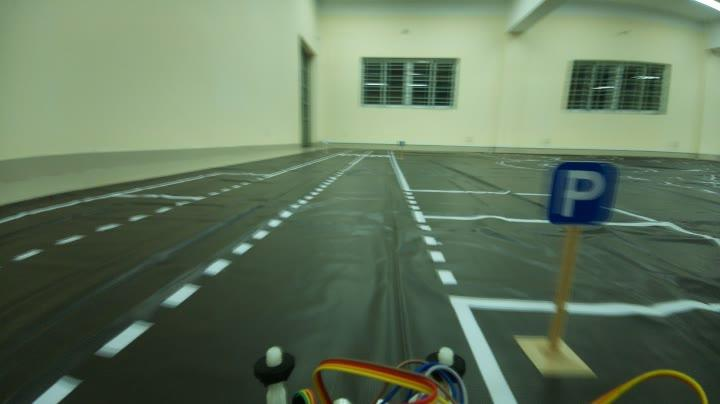parking: (542, 159, 624, 220)
